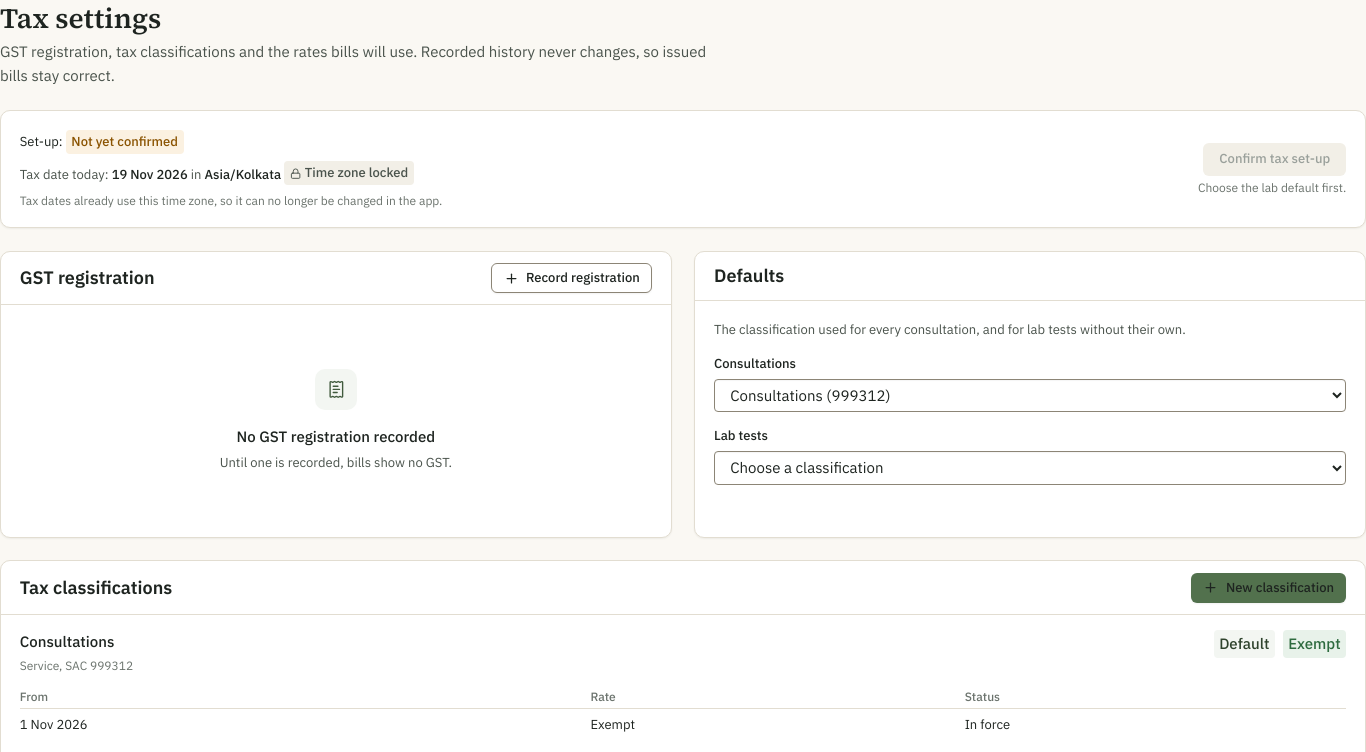
Test case: Tax settings › validates a GSTIN before sending and shows the server rule message
Click the button "Record registration" at (572,278), box [491,263,652,293]
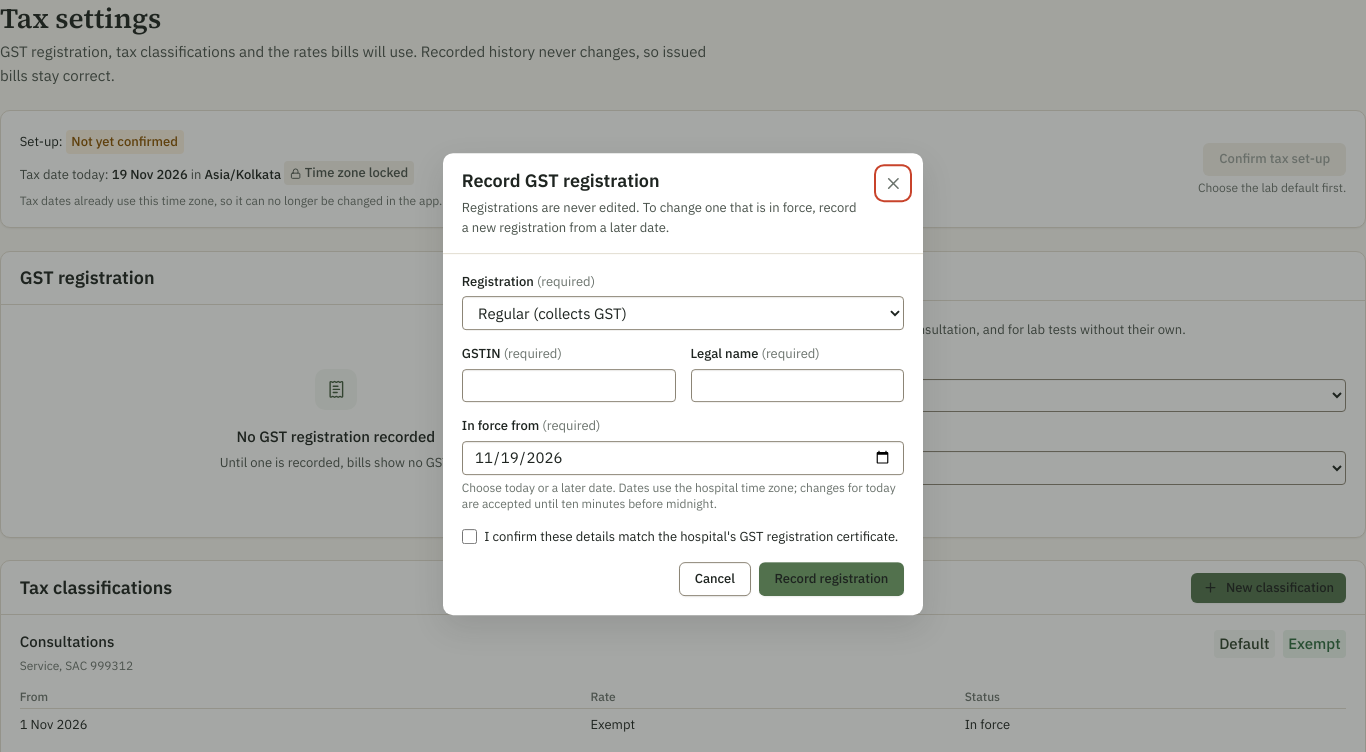
Type "27AAPFU0939F1ZX" into the field labelled "GSTIN (required)" at (569,386), box [462,369,676,402]
Type "City Hospitals LLP" into the field labelled "Legal name (required)" at (797,386), box [690,369,904,402]
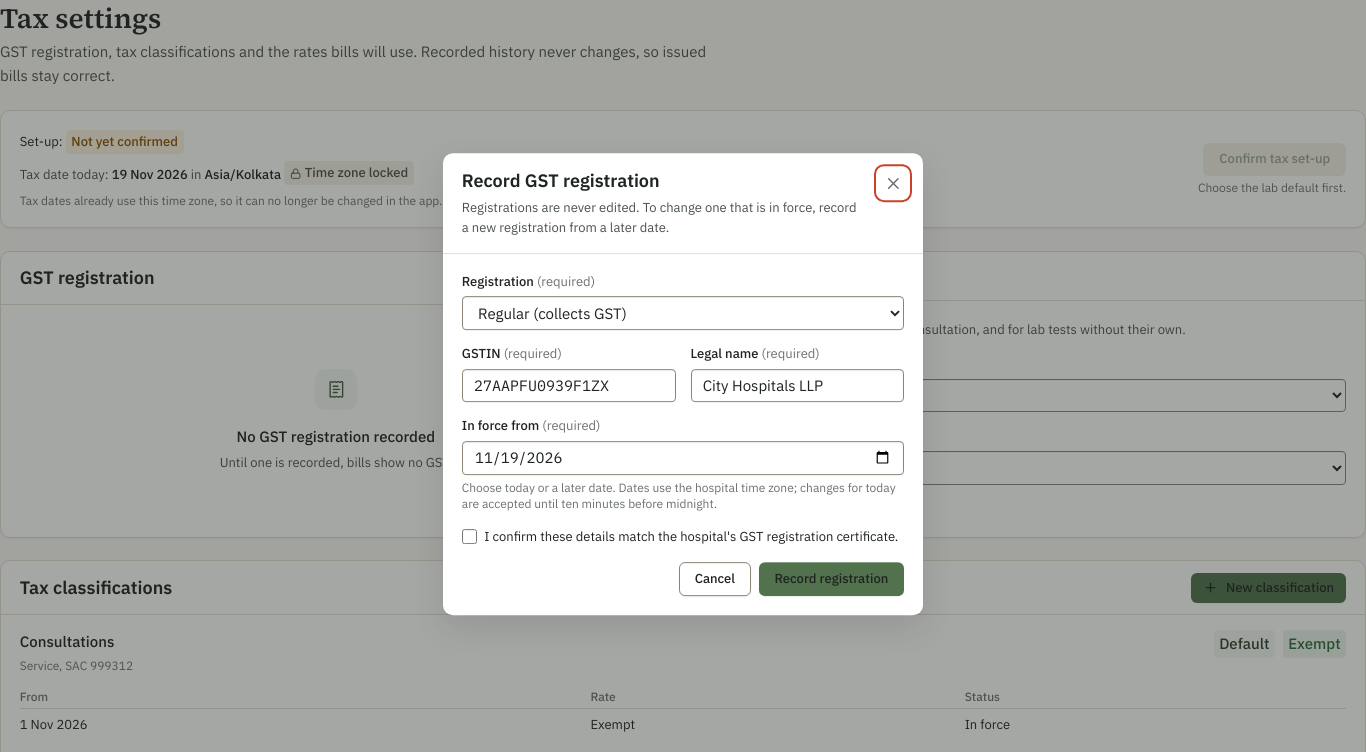
Click the checkbox at (469,537), box [462,529,477,544]
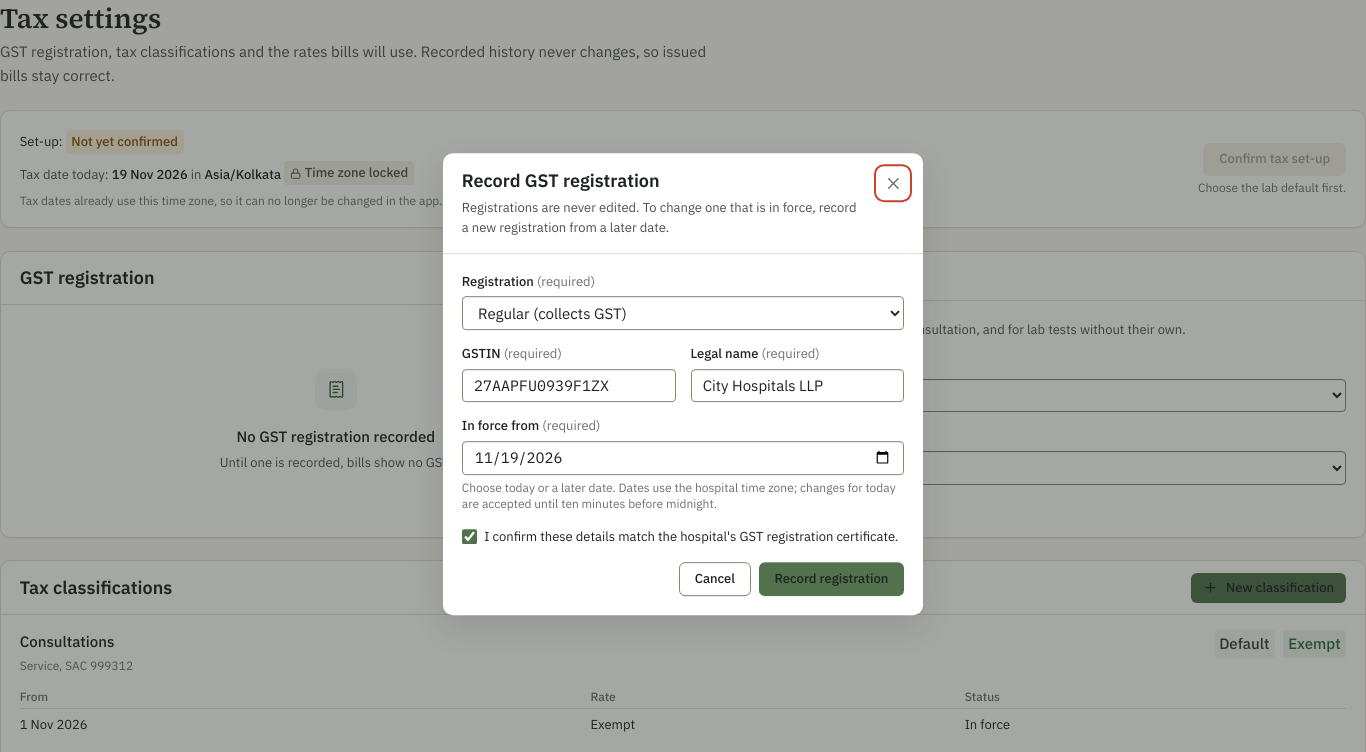
Click the button "Record registration" at (831,579), box [758,562,904,596]
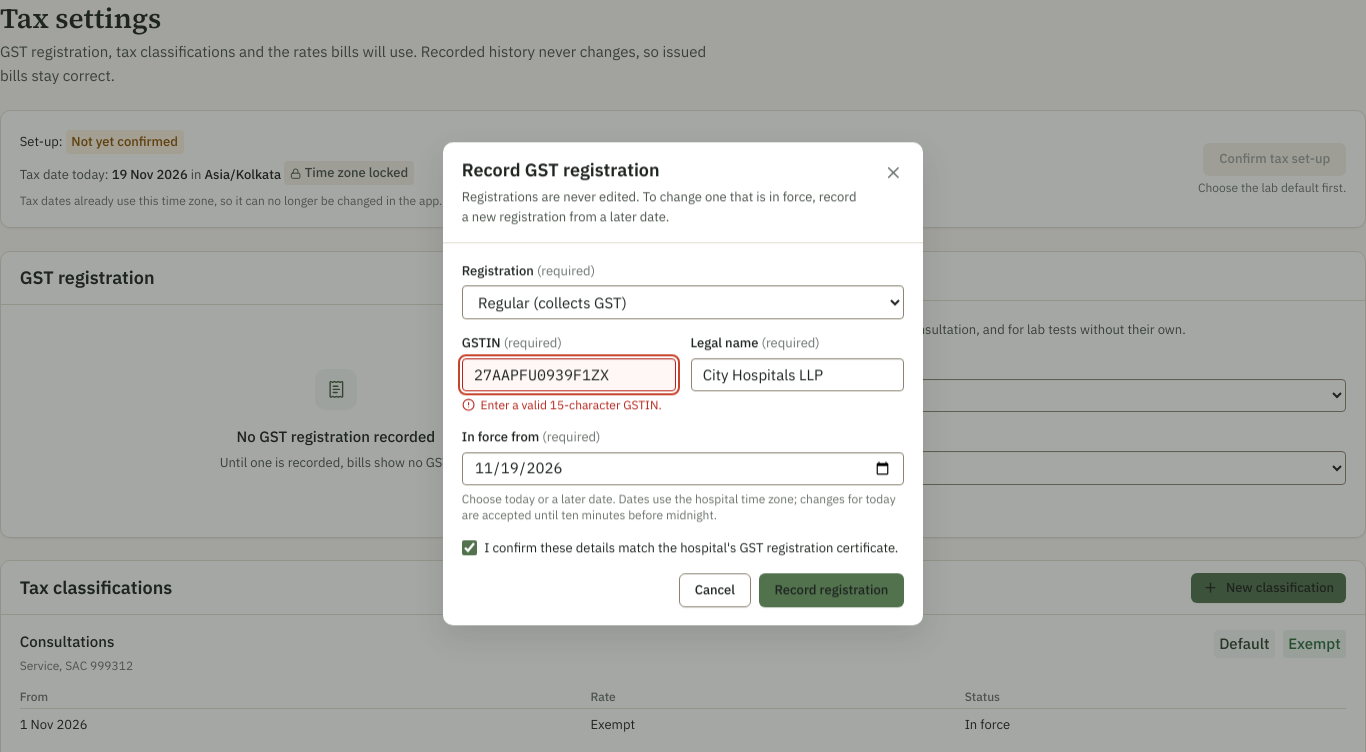
Now the text "Enter a valid 15-character GSTIN." is shown, box [462,397,676,413]
Replace the text in the field labelled "GSTIN (required)" with "27aapfu0939f1zv" at (569,375), box [462,358,676,392]
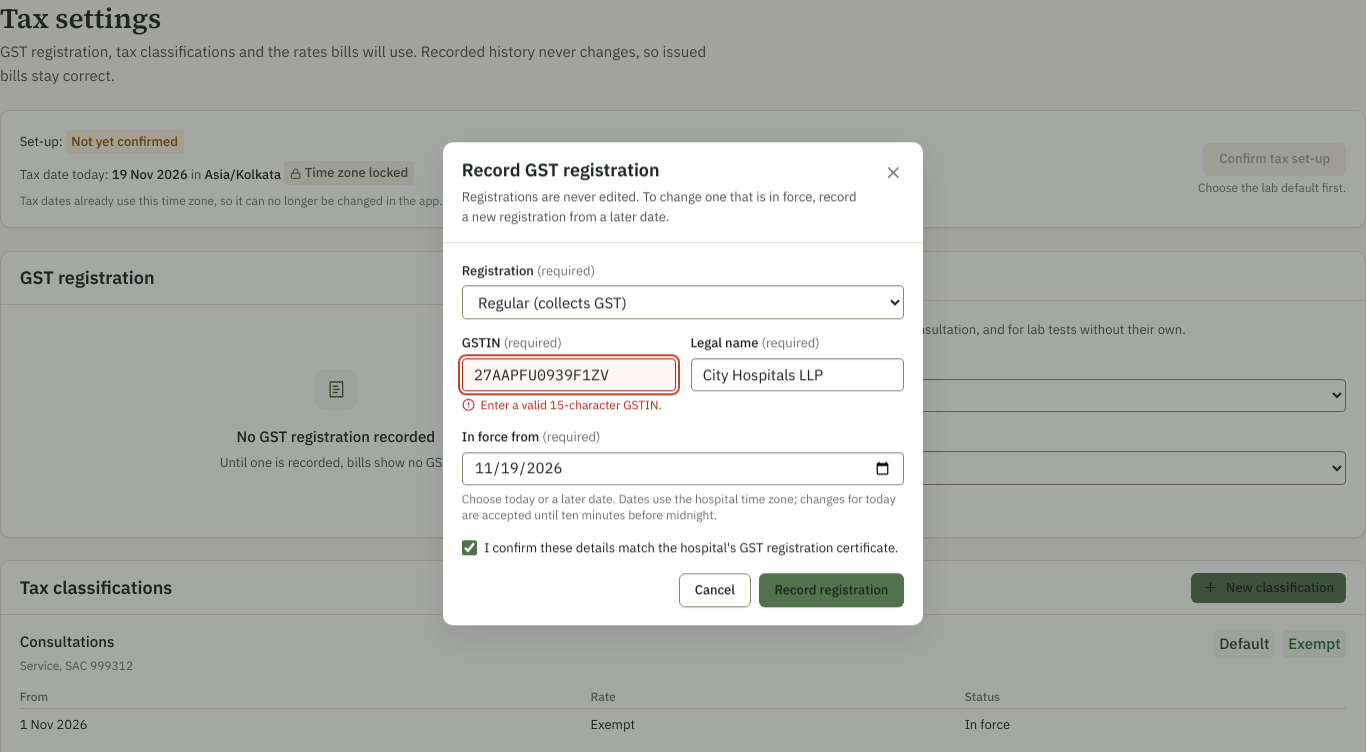
Click the button "Record registration" at (831,590), box [758,573,904,607]
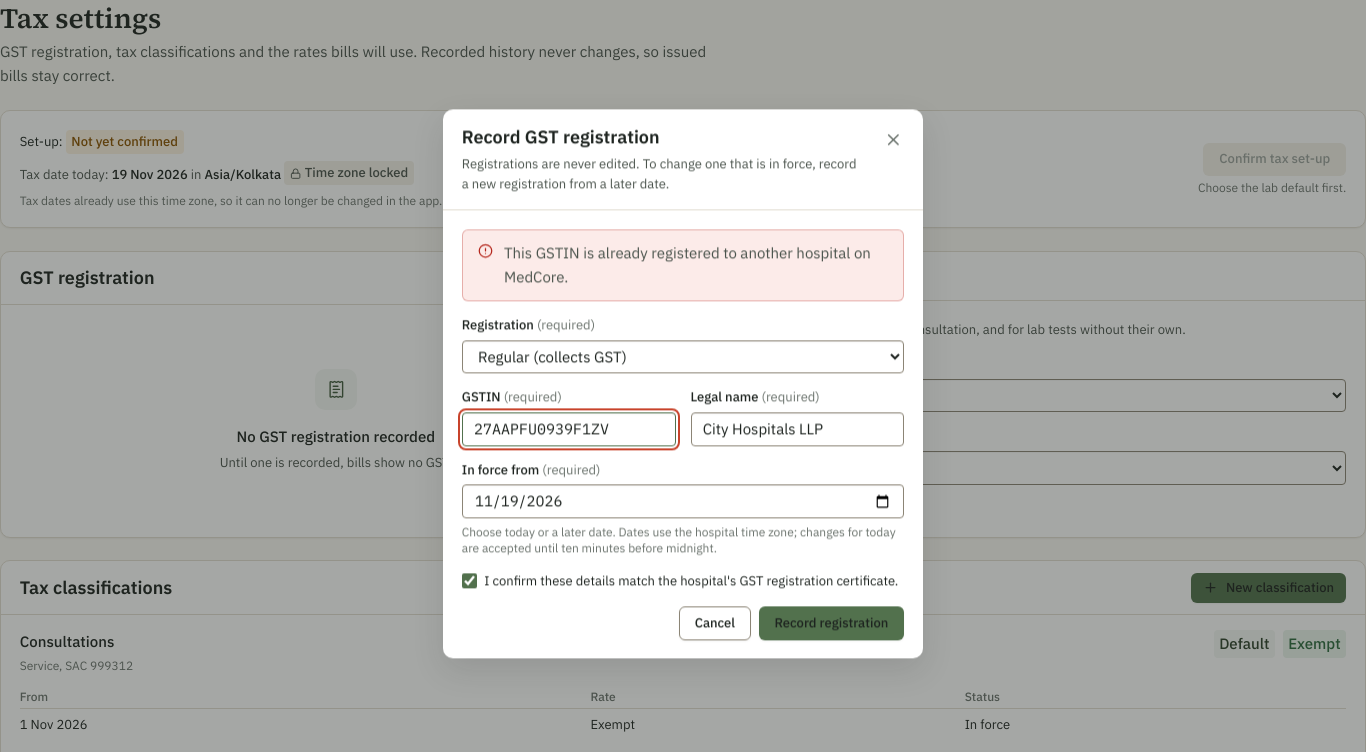
Now the text "already registered to another hospital" is shown, box [504,243,871,286]
